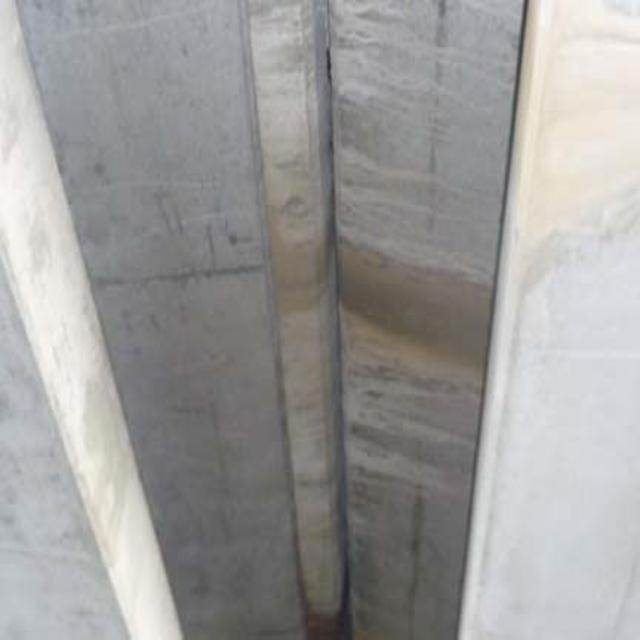freelime: (344, 387, 463, 494)
